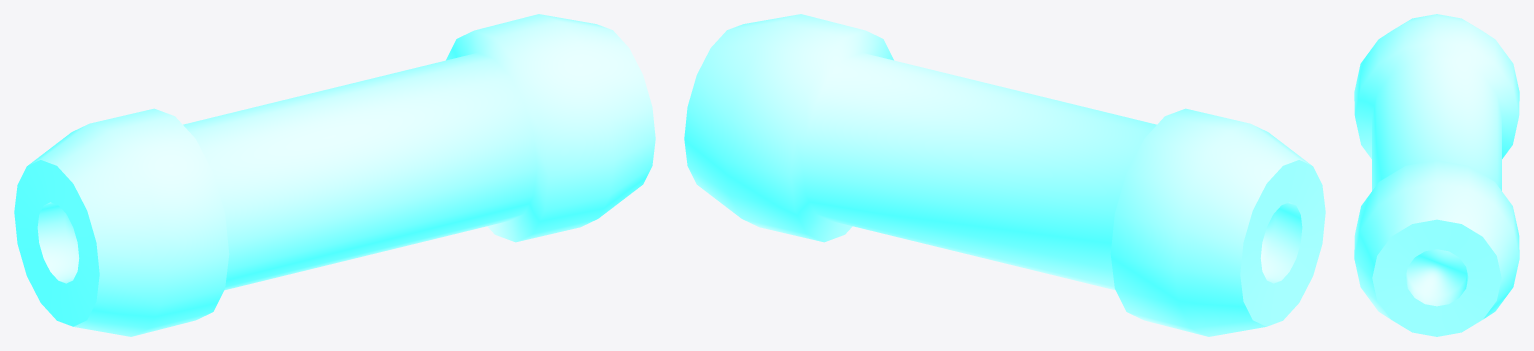
File: oil.fbx
3 renders of one model, left to right at view 1: azimuth 30°, elevation 25°; view 2: azimuth 150°, elevation 25°; view 3: azimuth 270°, elevation 25°, orthographic. The views are drawn at different scales.
Parts seen in each view (by area): view 1: Cylinder.001; view 2: Cylinder.001; view 3: Cylinder.001.
Boxes of the visible parts, x1,y1,x2,y2 form: Cylinder.001: [14, 14, 655, 336]; Cylinder.001: [684, 14, 1325, 336]; Cylinder.001: [1354, 14, 1519, 336].
Size of the model in its own units: 335 by 114 by 114.
